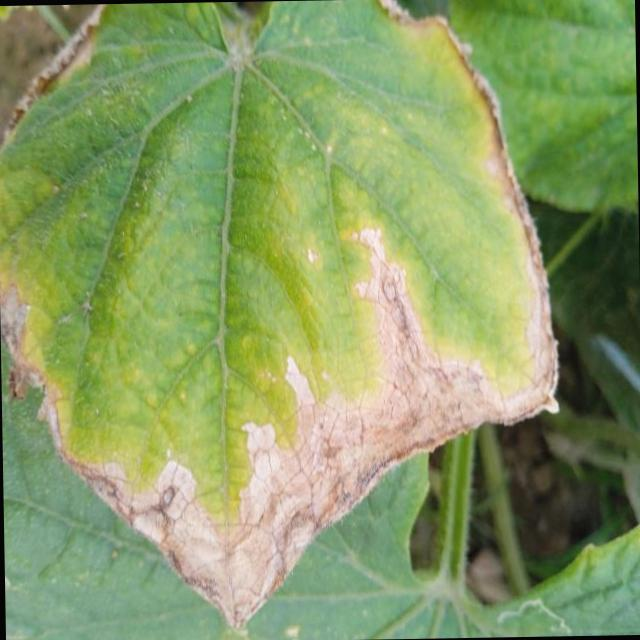cucumber_gummy: (0, 0, 571, 638)
